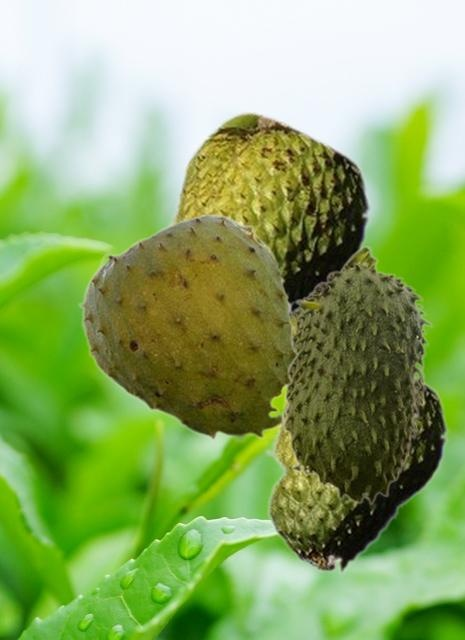guyabano: (77, 213, 298, 443), (161, 110, 371, 307), (282, 244, 432, 504), (264, 379, 448, 575)
